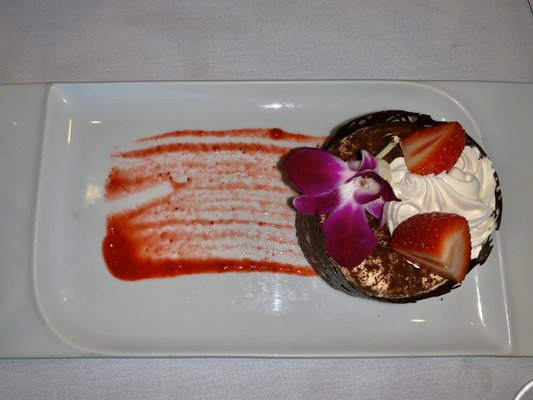sushi: (280, 116, 502, 304)
